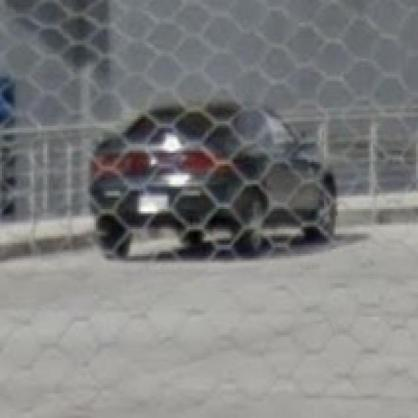car: (92, 104, 340, 258)
